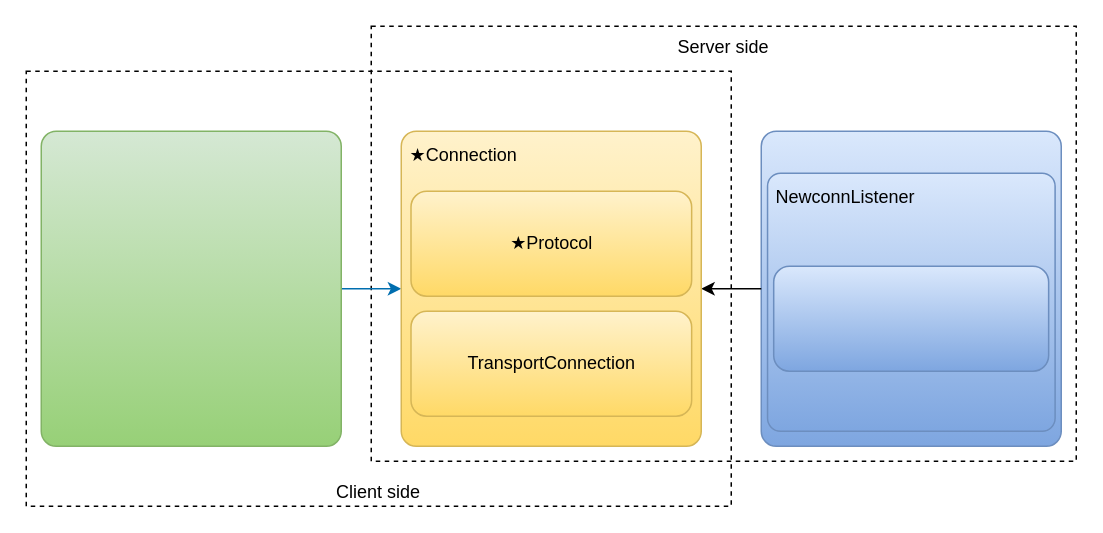
Some shapes in this 1103 by 533 pixel diagram are drawn without their labels. Each missing label, with the box of its shape:
NewconnServer: (760, 130, 1061, 446)
★ ConnectionHandler: (772, 265, 1049, 371)
★Client: (40, 130, 341, 446)
